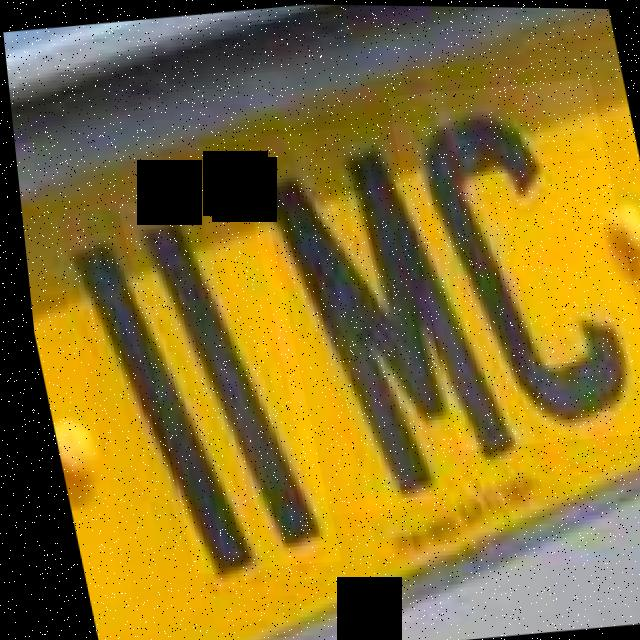C: (391, 84, 640, 441)
I: (53, 215, 260, 593), (119, 197, 324, 565)
M: (241, 123, 519, 507)
